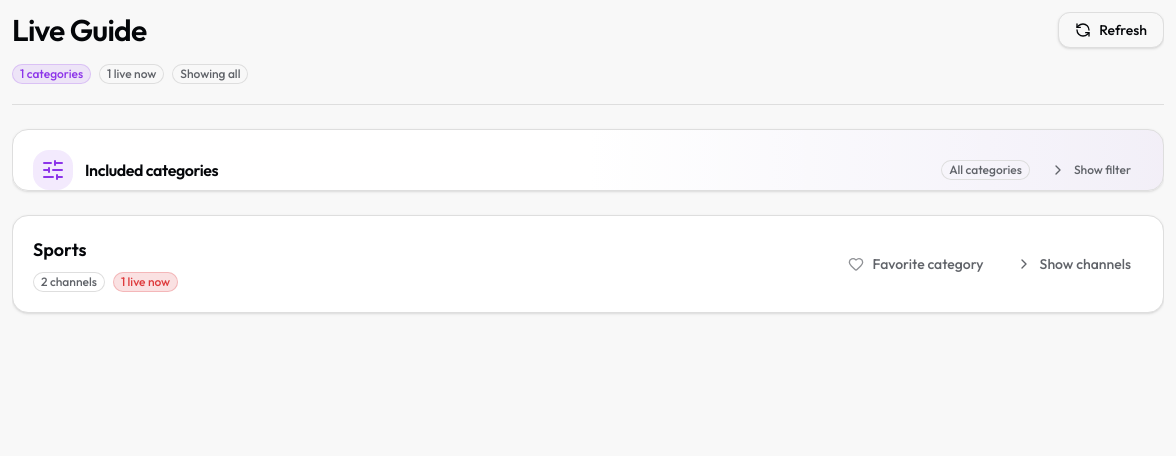
Test: GuidePage › filters dated PPV channels outside the current window
The image size is (1176, 456).
Step 1. Click the button "Show channels" → click(1073, 264), box [1004,246,1143,282]
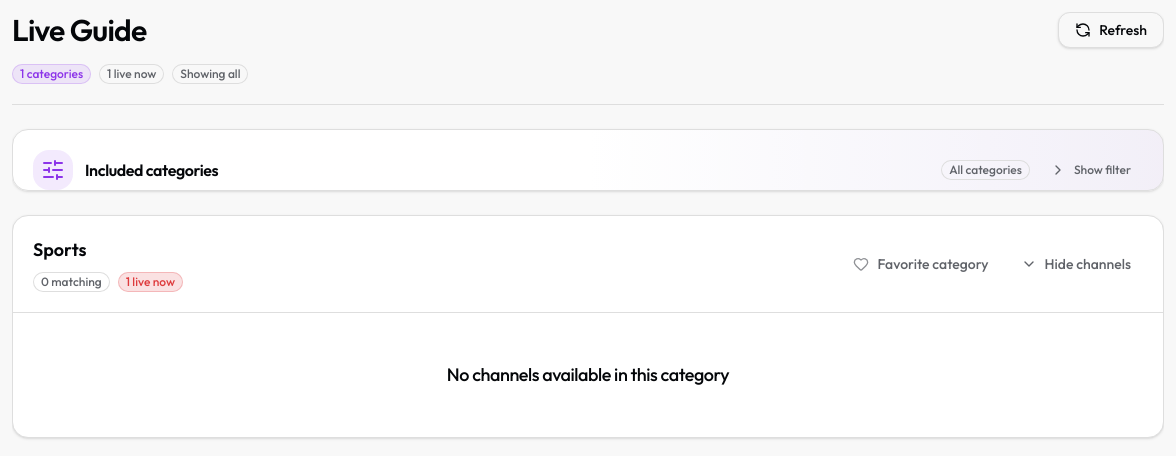
Result: the text "No channels available in this category" is shown at [447,361,729,389]
